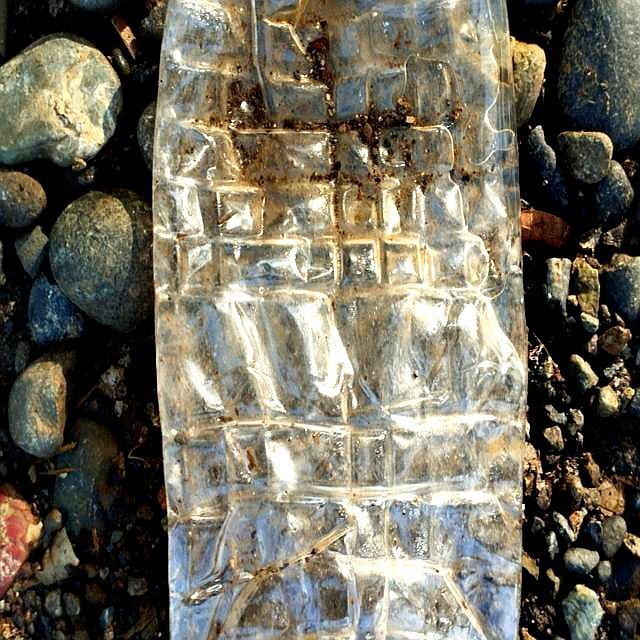Non-biodegradable: (157, 1, 533, 640)
